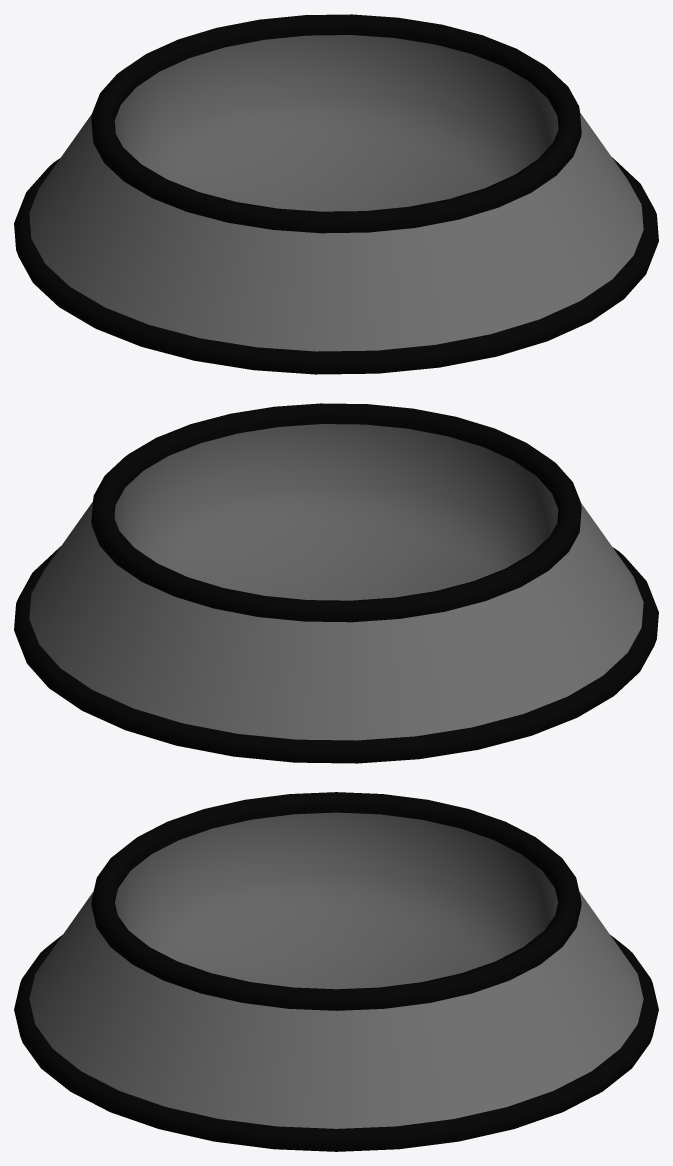
File: pet_bowl.glb
The picture shows the model from 3 angles, top to bottom: view 1: azimuth 30°, elevation 25°; view 2: azimuth 150°, elevation 25°; view 3: azimuth 270°, elevation 25°; orthographic projection.
Parts seen in each view (by area): view 1: Cylinder; view 2: Cylinder; view 3: Cylinder.
Boxes of the visible parts, <box> form: Cylinder: <box>14,14,658,374</box>; Cylinder: <box>14,403,658,763</box>; Cylinder: <box>14,792,658,1151</box>.
Bounding box in the file's own units: 4.04 × 0.8648 × 4.04.
1 material, 1 textured.
